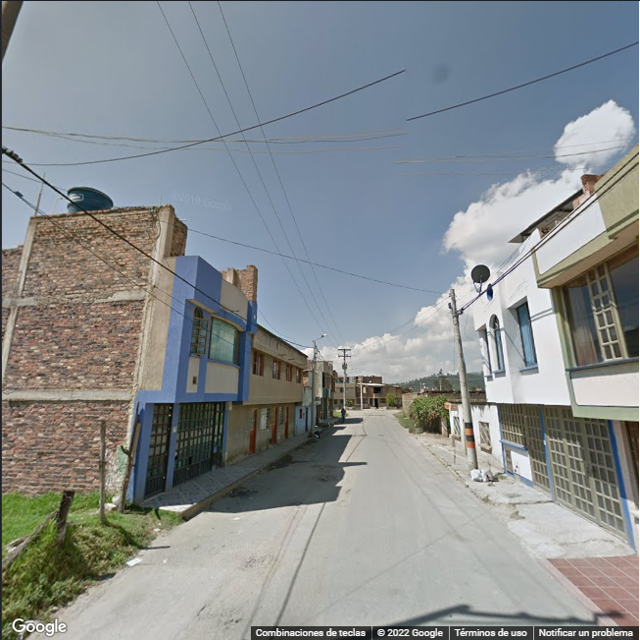D00: (171, 605, 203, 636)
D40: (239, 553, 278, 568)
